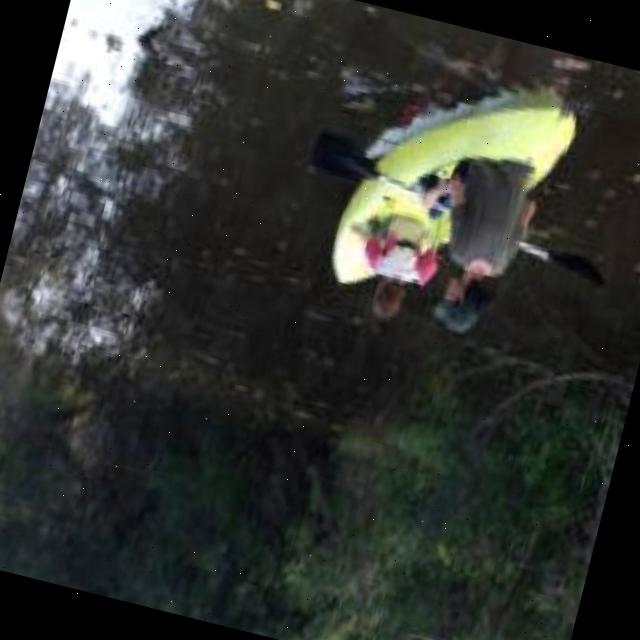kayak: (306, 92, 570, 284)
